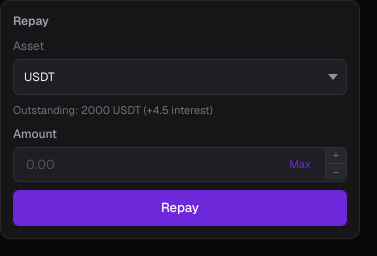
RepayForm › Max button fills the amount field with borrow amount
The image size is (377, 256).
Click the button "Max": point(300, 164) x1=283 y1=155 x2=317 y2=173
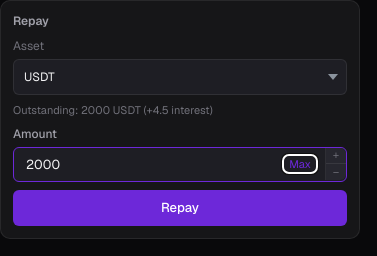
Expected: the field labelled "Amount" holds "2000", x1=14 y1=148 x2=275 y2=181
